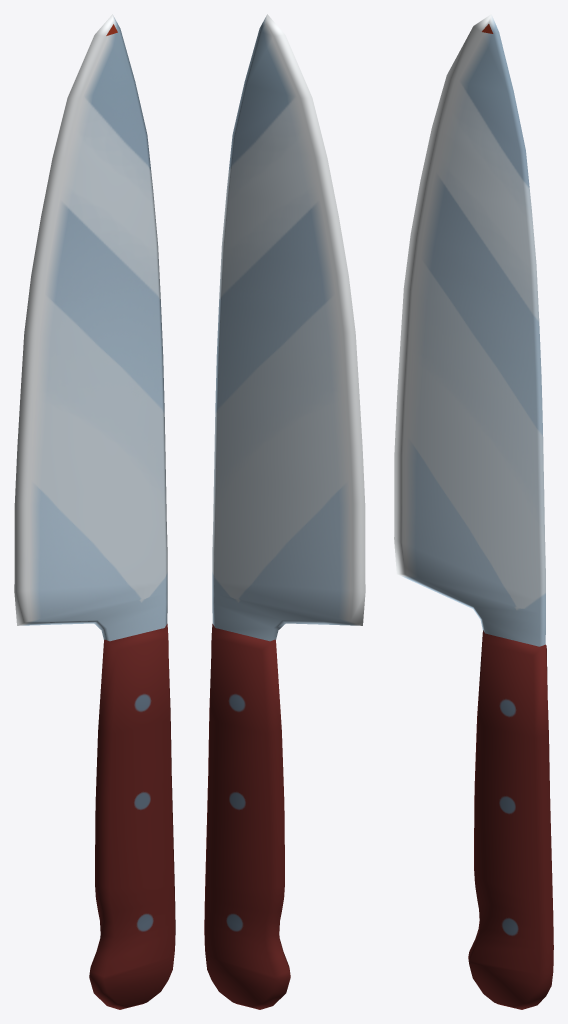
Rendered from knife.fbx.
3 renders of one model, left to right at view 1: azimuth 30°, elevation 25°; view 2: azimuth 150°, elevation 25°; view 3: azimuth 330°, elevation 25°, orthographic.
Parts seen in each view (by area): view 1: knife; view 2: knife; view 3: knife.
Part boxes in pixels (bbox=[...]): knife: bbox=[14, 14, 175, 1009]; knife: bbox=[204, 14, 365, 1009]; knife: bbox=[394, 14, 553, 1009].
Bounding box in the file's own units: 0.1779 × 1.05 × 0.026.
Materials: 1 (1 with a texture image).
